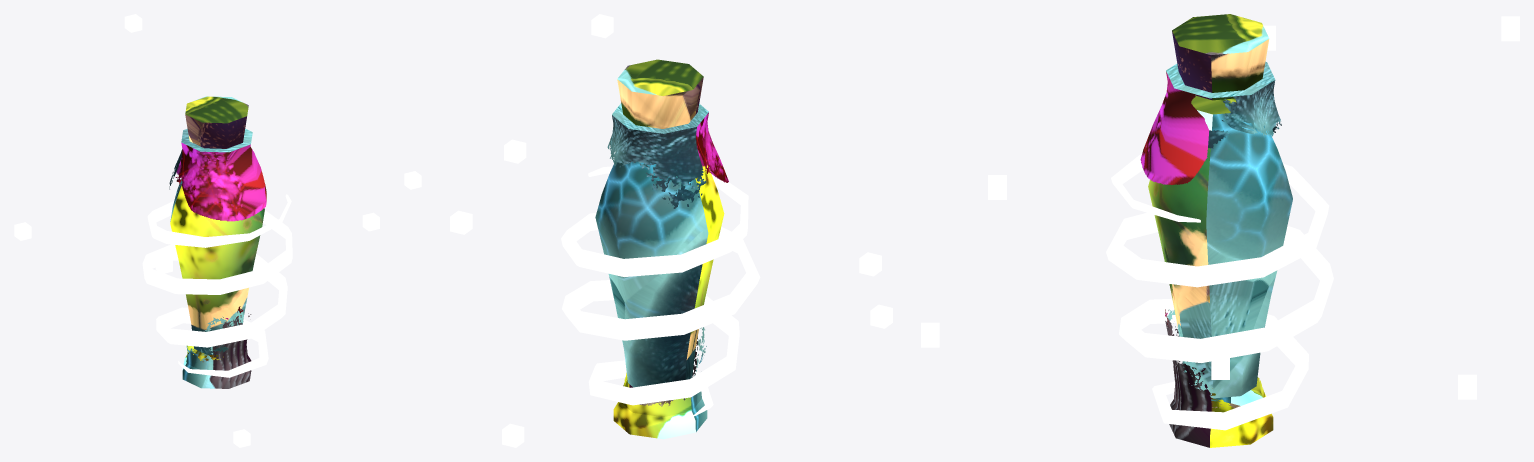
The model's file is ENKA.fbx.
3 renders of one model, left to right at view 1: azimuth 30°, elevation 25°; view 2: azimuth 150°, elevation 25°; view 3: azimuth 270°, elevation 25°, orthographic. The views are drawn at different scales.
Parts seen in each view (by area): view 1: 1.003, 1.001; view 2: 1.003, 1.001; view 3: 1.003, 1.001.
Boxes of the visible parts, x1=… form: 1.003: x1=169, y1=96, x2=266, y2=388; 1.001: x1=14, y1=14, x2=421, y2=447; 1.003: x1=595, y1=59, x2=728, y2=439; 1.001: x1=450, y1=14, x2=892, y2=447; 1.003: x1=1140, y1=14, x2=1292, y2=447; 1.001: x1=921, y1=16, x2=1519, y2=430.
Size of the model in its own units: 467 by 366 by 477.
